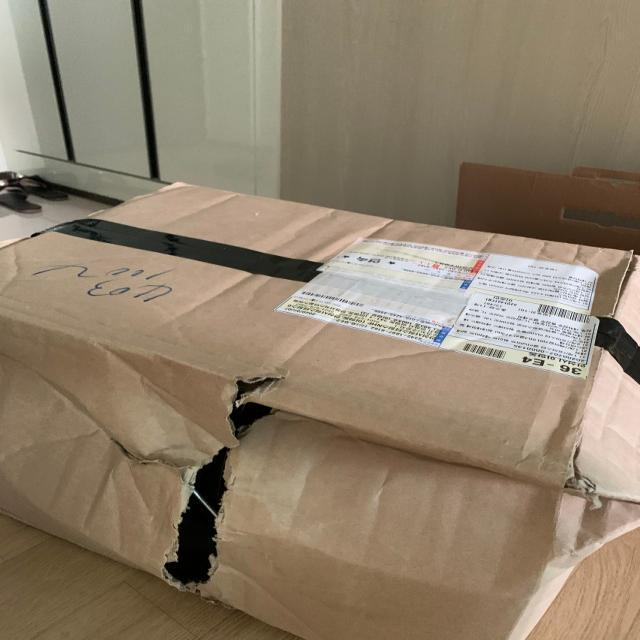damaged: (140, 367, 303, 608)
